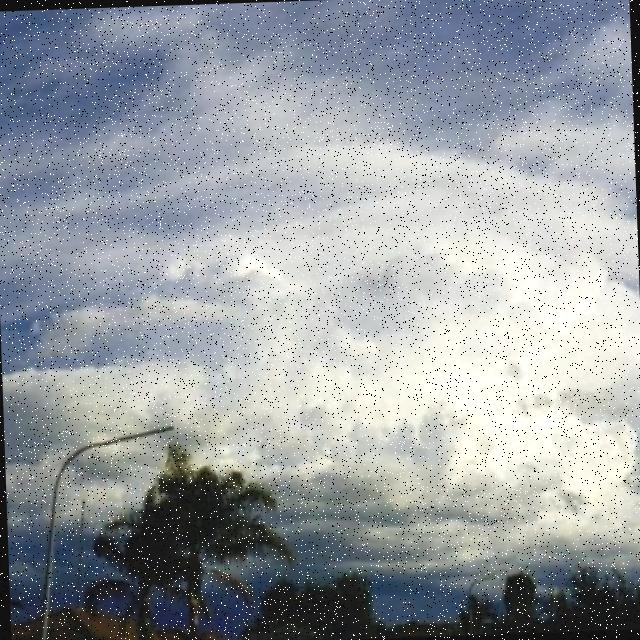Cs: (1, 27, 640, 411)
